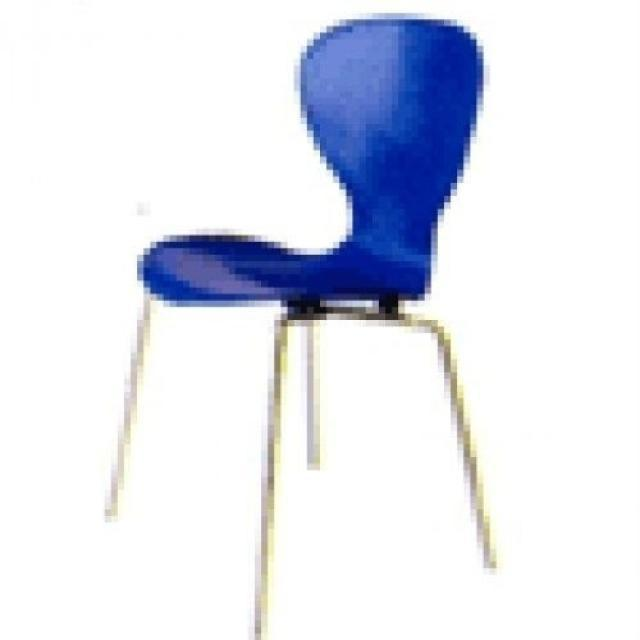chair: (96, 9, 502, 640)
